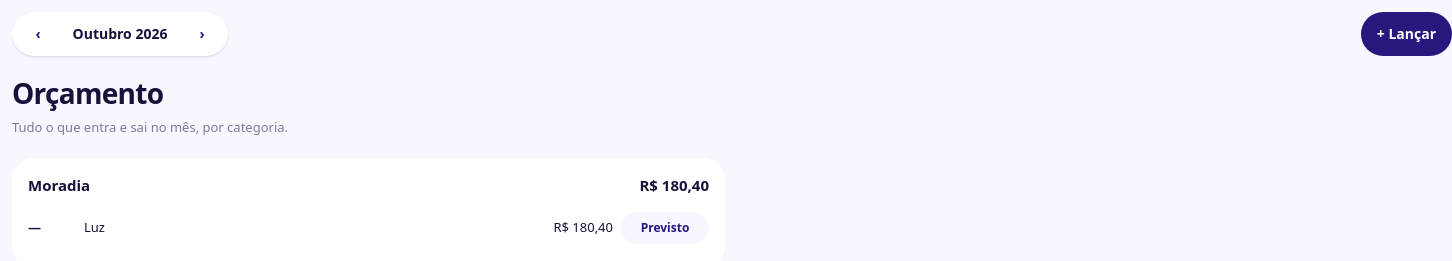
it: LancamentosPage › clicar_no_chip_alterna_status_via_patch
The width and height of the screenshot is (1452, 261).
Click the button "Previsto".
click(665, 228)  # box [621, 212, 709, 244]
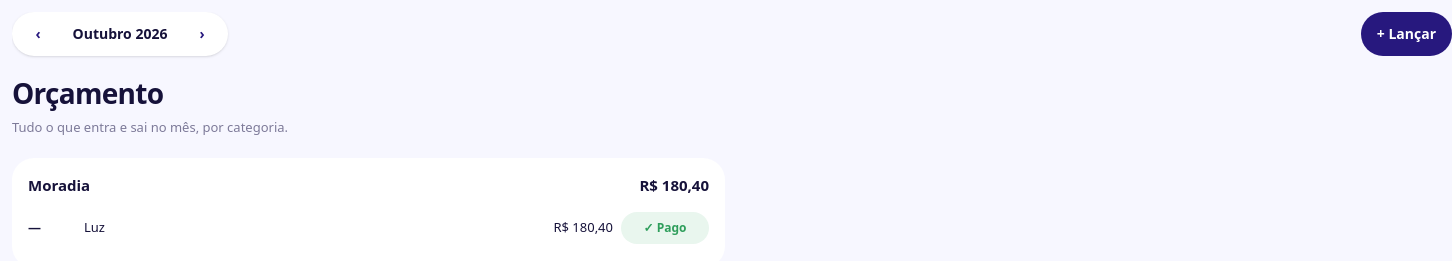
Expected: the button "✓ Pago" is shown, [621, 212, 709, 244]
